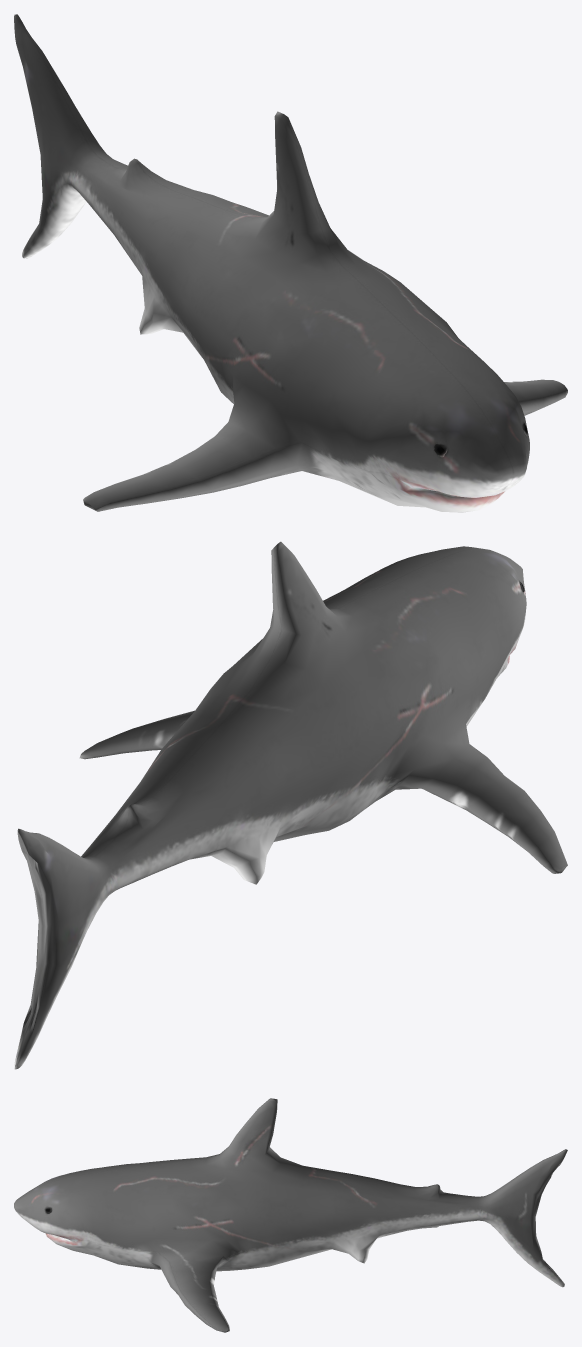
The model's file is tiburon.obj.
3 renders of one model, top to bottom at view 1: azimuth 30°, elevation 25°; view 2: azimuth 150°, elevation 25°; view 3: azimuth 270°, elevation 25°, orthographic. The views are drawn at different scales.
Visible parts, largest first — view 1: Shark; view 2: Shark; view 3: Shark.
Part boxes in pixels (x1,y1,x2,y2): Shark: (14,14,567,512); Shark: (14,541,567,1069); Shark: (14,1098,567,1332).
Bounding box in the file's own units: 2621 × 1755 × 4683.
Materials: 1 (1 with a texture image).
